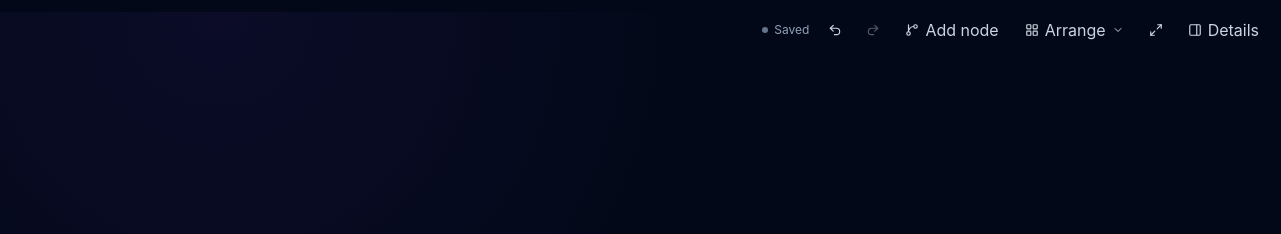
Test: MapToolbar › offers the four arrange modes from a menu
Click the button "Arrange": (1074, 30) [1015,12,1134,48]
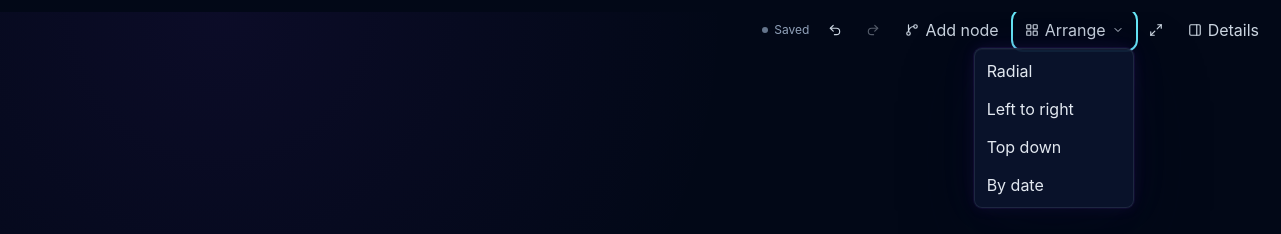
Now the menu items read "Radial", "Left to right", "Top down", "By date", in this order
Click the menu item "Top down": (1054, 147) [979,129,1129,165]
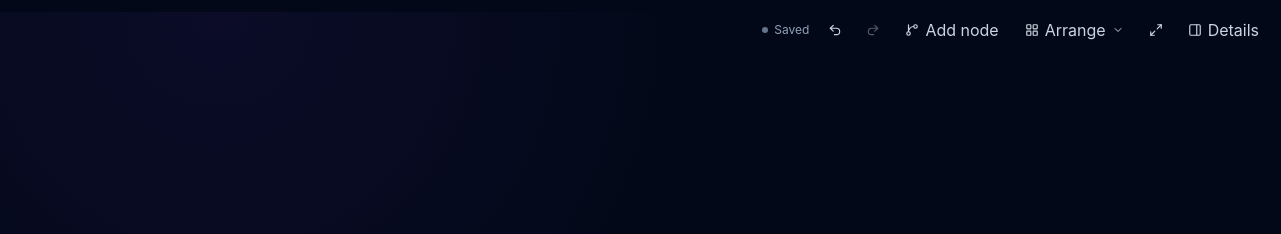
Now the menu is gone
